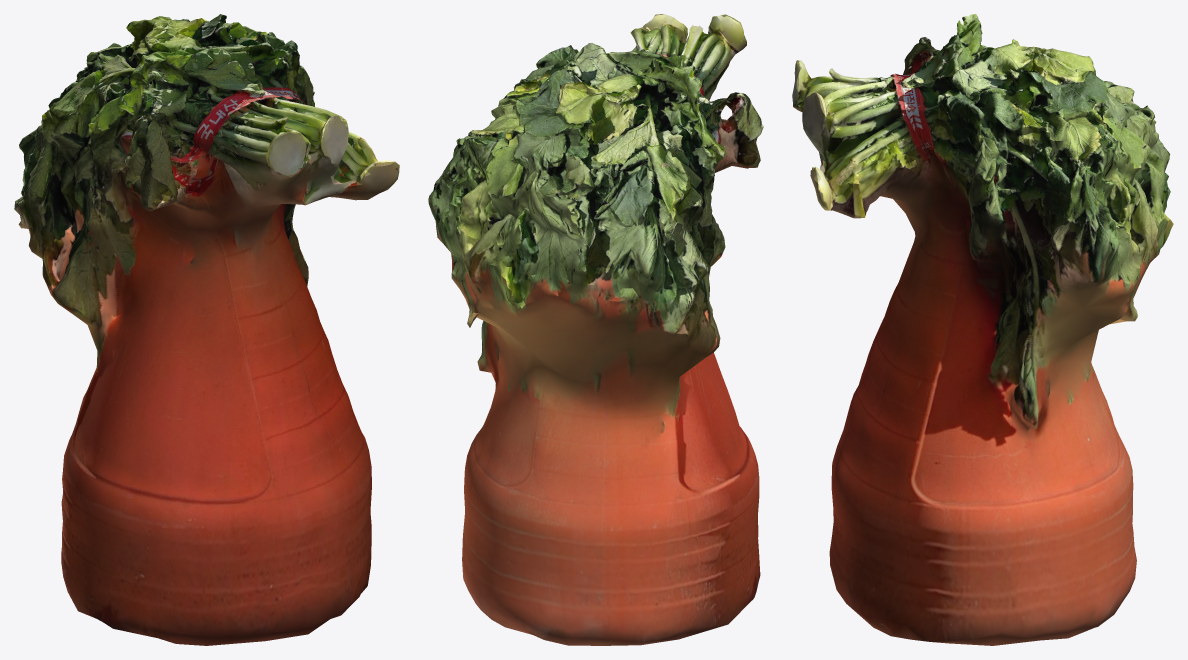
Rendered from radish.gltf.
The picture shows the model from 3 angles, left to right: view 1: azimuth 30°, elevation 25°; view 2: azimuth 150°, elevation 25°; view 3: azimuth 270°, elevation 25°; orthographic projection. The views are drawn at different scales.
Parts seen in each view (by area): view 1: Default; view 2: Default; view 3: Default.
Part boxes in pixels (x1,y1,x2,y2): Default: (14,14,399,645); Default: (428,14,763,645); Default: (792,14,1173,645).
Size of the model in its own units: 0.0055 by 0.0107 by 0.00673.
1 material, 1 textured.
